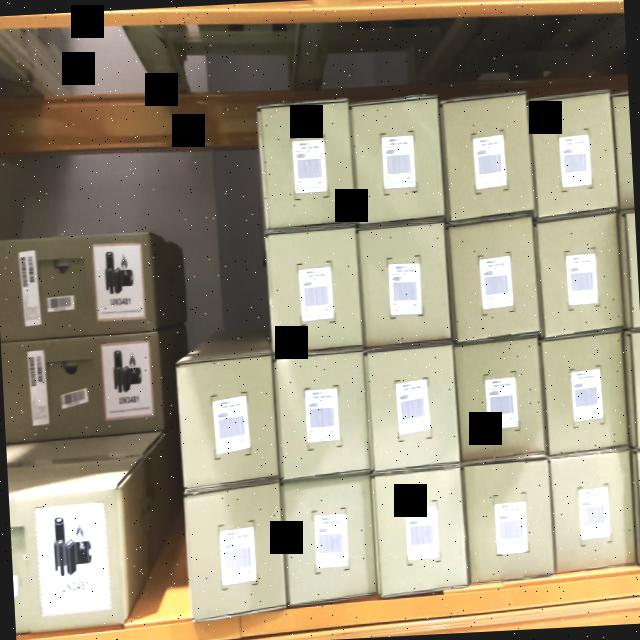box: (186, 487, 286, 612), (178, 360, 278, 482), (260, 102, 354, 228), (266, 230, 364, 350), (277, 352, 370, 478), (374, 468, 466, 592), (366, 348, 460, 468), (354, 100, 444, 222), (283, 480, 376, 598), (359, 225, 452, 342), (457, 341, 544, 460), (464, 464, 554, 578), (448, 227, 540, 337), (444, 100, 531, 216), (531, 94, 615, 214), (544, 334, 628, 454), (536, 220, 624, 330), (552, 458, 636, 566)
